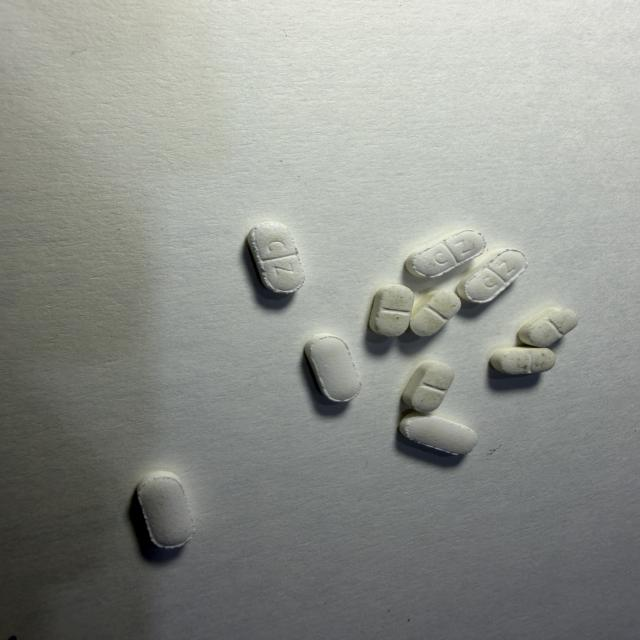pill: (137, 471, 194, 547), (248, 222, 304, 293), (457, 249, 527, 303), (406, 230, 485, 277), (305, 334, 360, 401), (399, 413, 477, 454), (402, 360, 454, 413), (518, 308, 578, 347), (410, 290, 460, 336), (369, 285, 414, 336), (491, 347, 555, 374)
